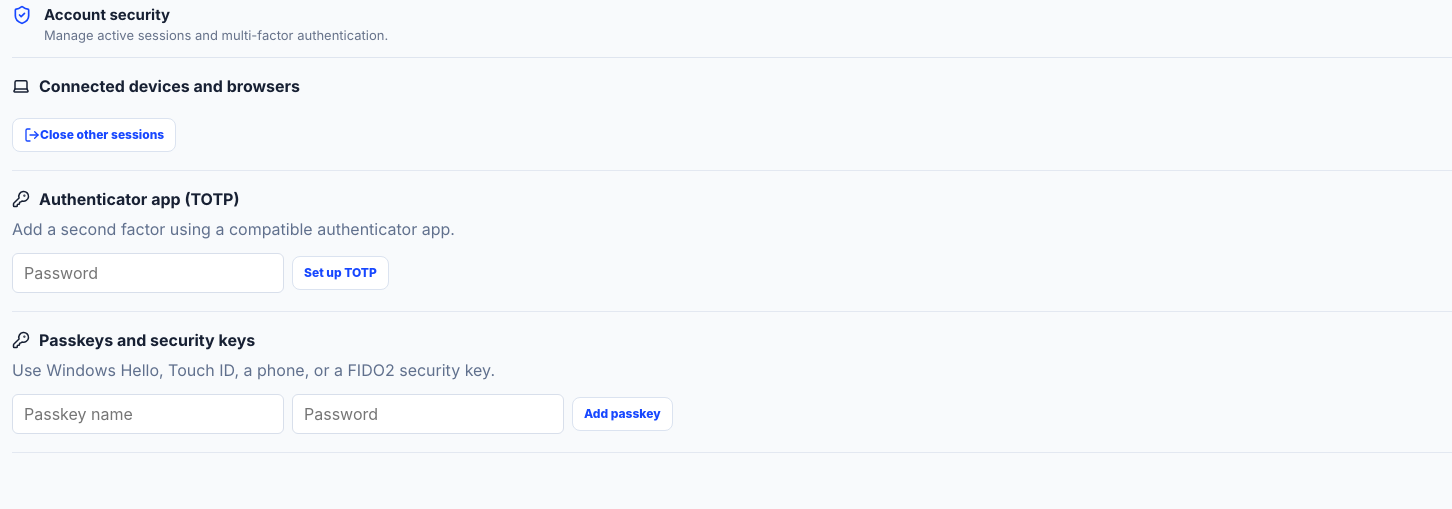
Test: SecuritySettings › explains when the browser cannot create passkeys
This screenshot has width=1452, height=509.
Click the button "Add passkey": coordinates (622, 414) [572,397,673,431]
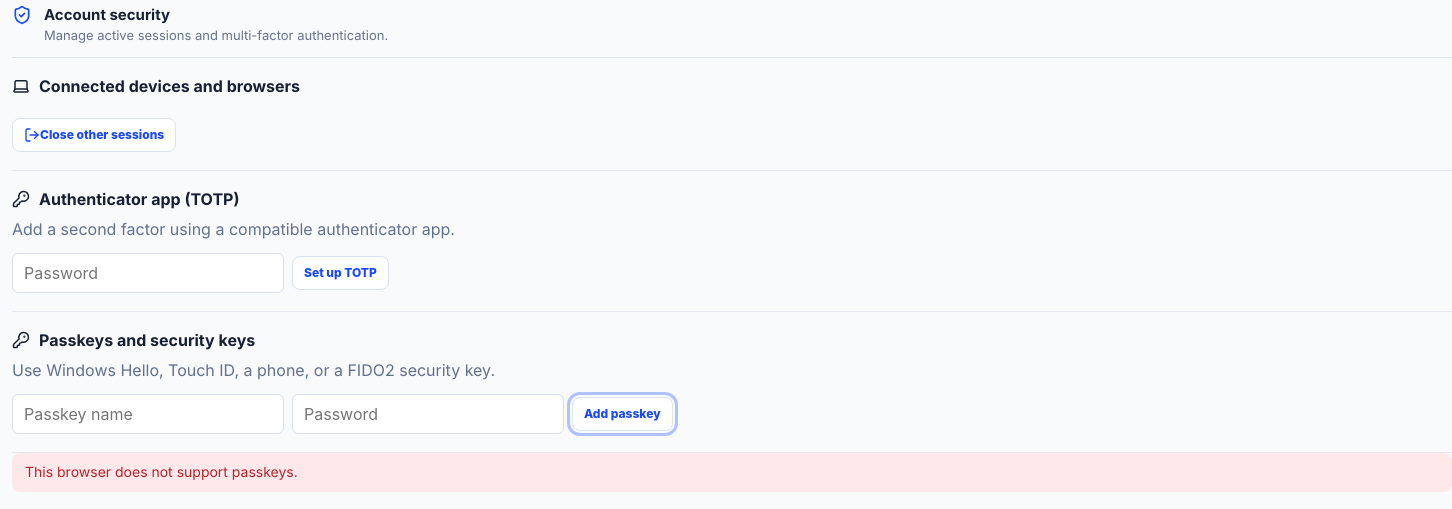
expect the text "This browser does not support passkeys." is shown: met, box [12,453,1451,492]
